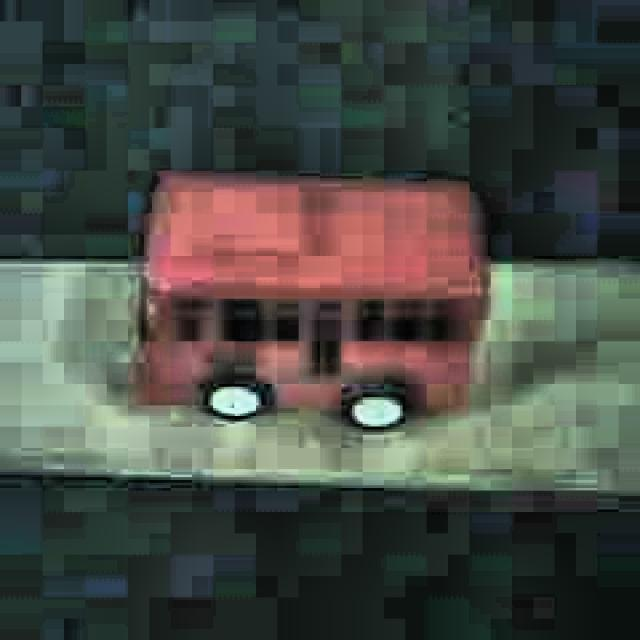bus: (134, 166, 489, 434)
